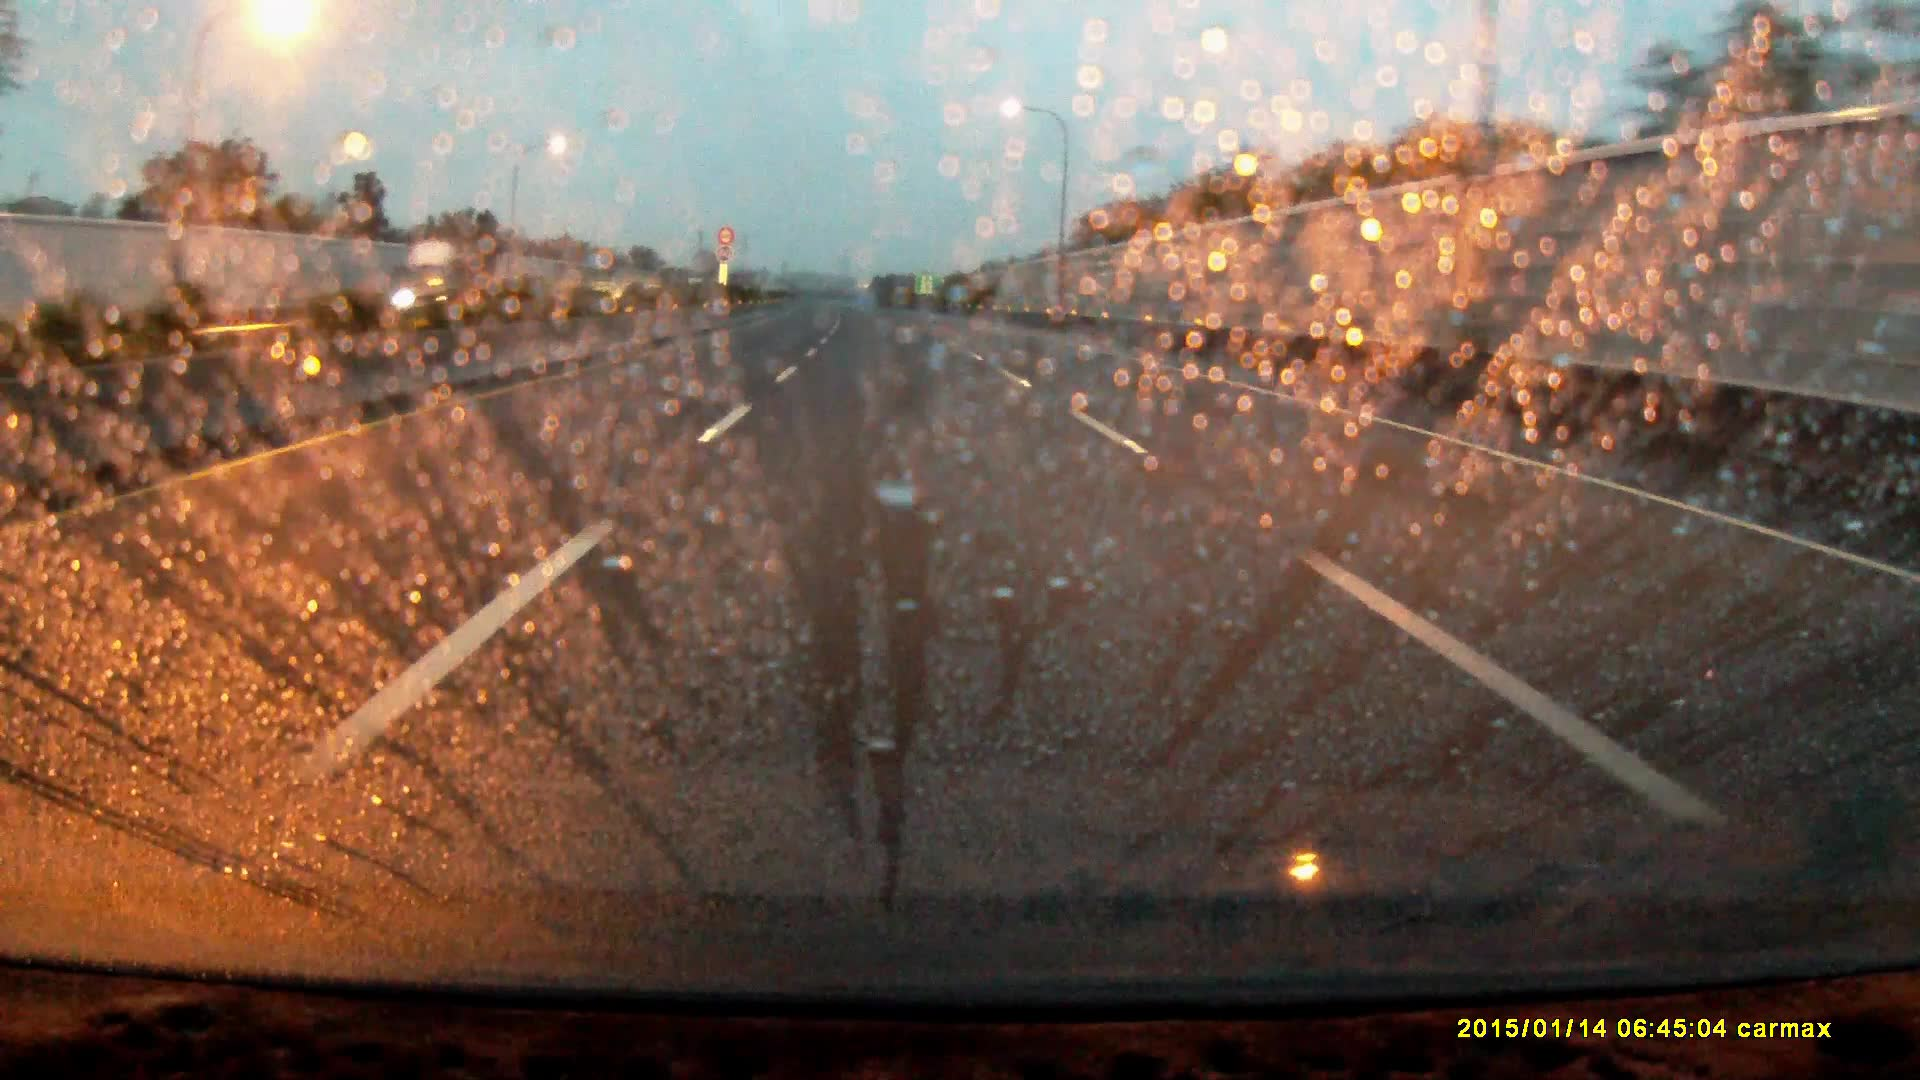vehicle: (386, 237, 504, 316)
